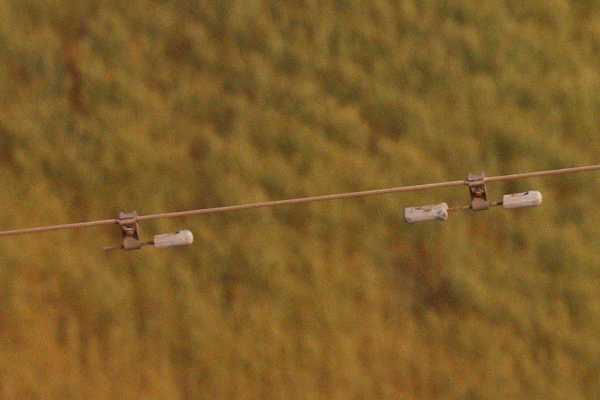damper: (397, 166, 545, 226)
damper_defect: (97, 209, 196, 256)
